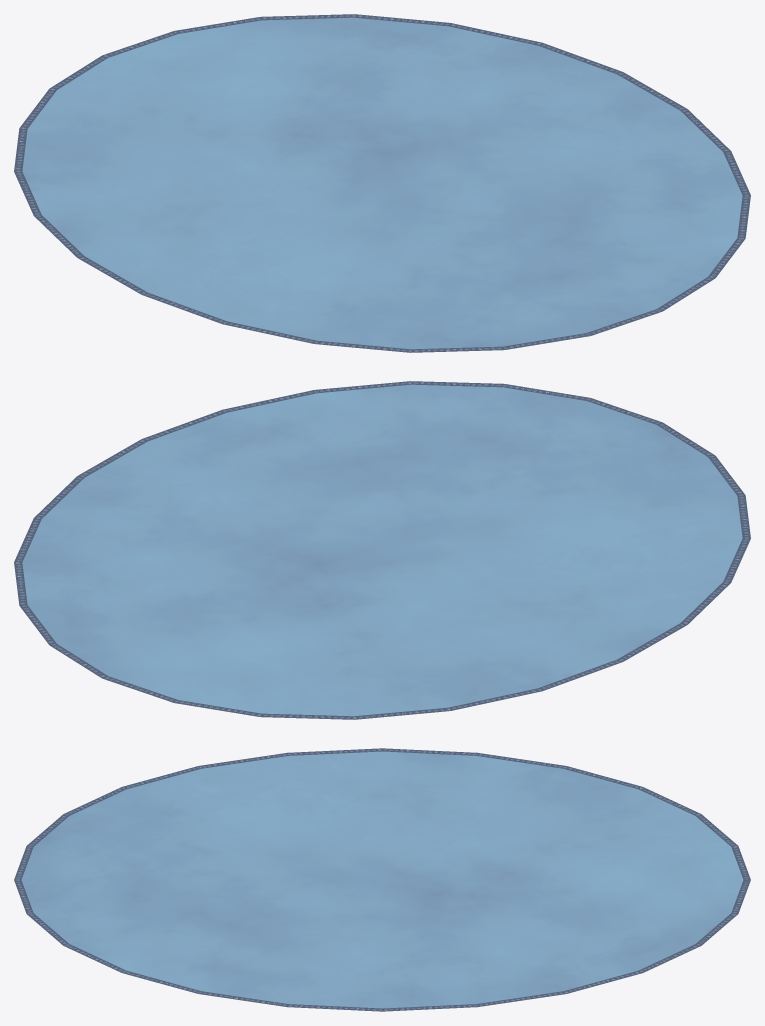
The model's file is Teppich_05.fbx.
3 views of the same model, one above another, from view 1: azimuth 30°, elevation 25°; view 2: azimuth 150°, elevation 25°; view 3: azimuth 270°, elevation 25° (orthographic). The views are drawn at different scales.
Parts seen in each view (by area): view 1: Teppich_05; view 2: Teppich_05; view 3: Teppich_05.
Part boxes in pixels (x1=…): Teppich_05: x1=14, y1=14, x2=750, y2=352; Teppich_05: x1=14, y1=381, x2=750, y2=719; Teppich_05: x1=14, y1=748, x2=750, y2=1011.
Bounding box in the file's own units: 3.38 × 6.08e-15 × 4.
